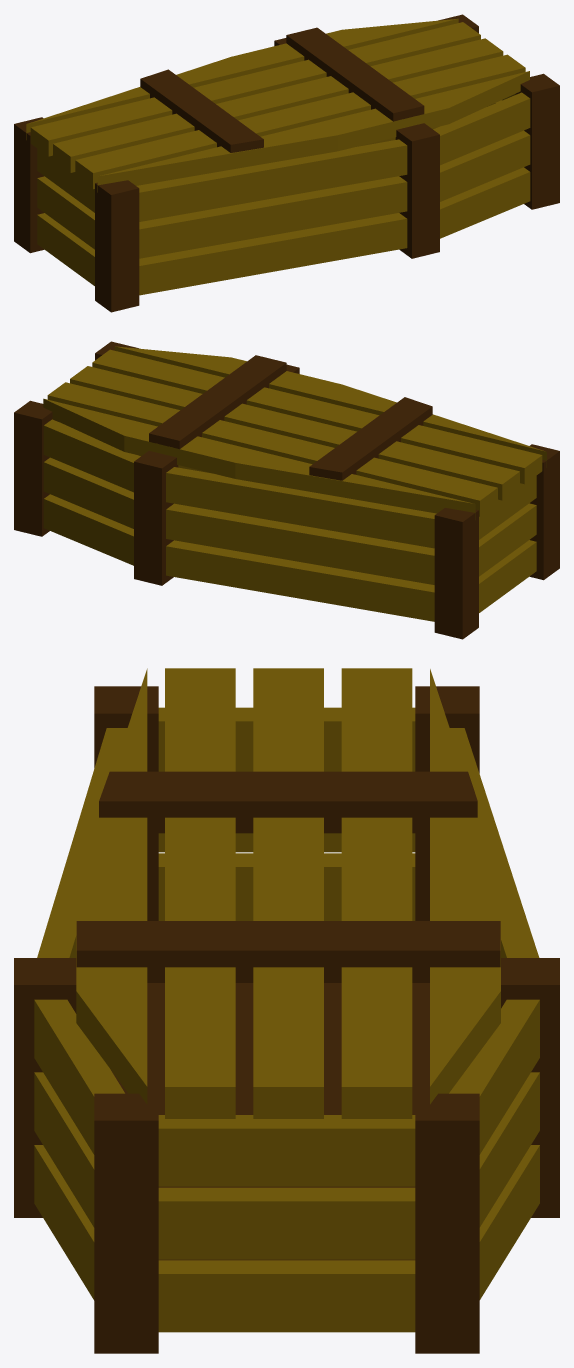
The model's file is SkeletonPlungerArea.fbx.
3 renders of one model, top to bottom at view 1: azimuth 30°, elevation 25°; view 2: azimuth 150°, elevation 25°; view 3: azimuth 270°, elevation 25°, orthographic. The views are drawn at different scales.
Visible parts, largest first — view 1: Coffin, CoffinDoor; view 2: Coffin, CoffinDoor; view 3: Coffin, CoffinDoor.
Part boxes in pixels (box(x1,y1,x2,y2)): Coffin: box(14, 14, 559, 312); CoffinDoor: box(26, 18, 529, 192); Coffin: box(14, 341, 559, 639); CoffinDoor: box(43, 346, 546, 519); Coffin: box(14, 686, 559, 1353); CoffinDoor: box(76, 668, 500, 1118).
Size of the model in its own units: 640 by 184 by 340.
